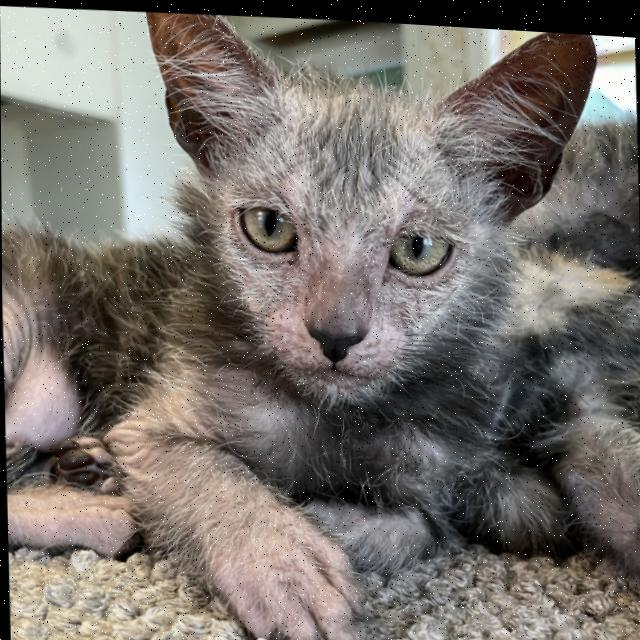Lykoi: (0, 0, 614, 640)
